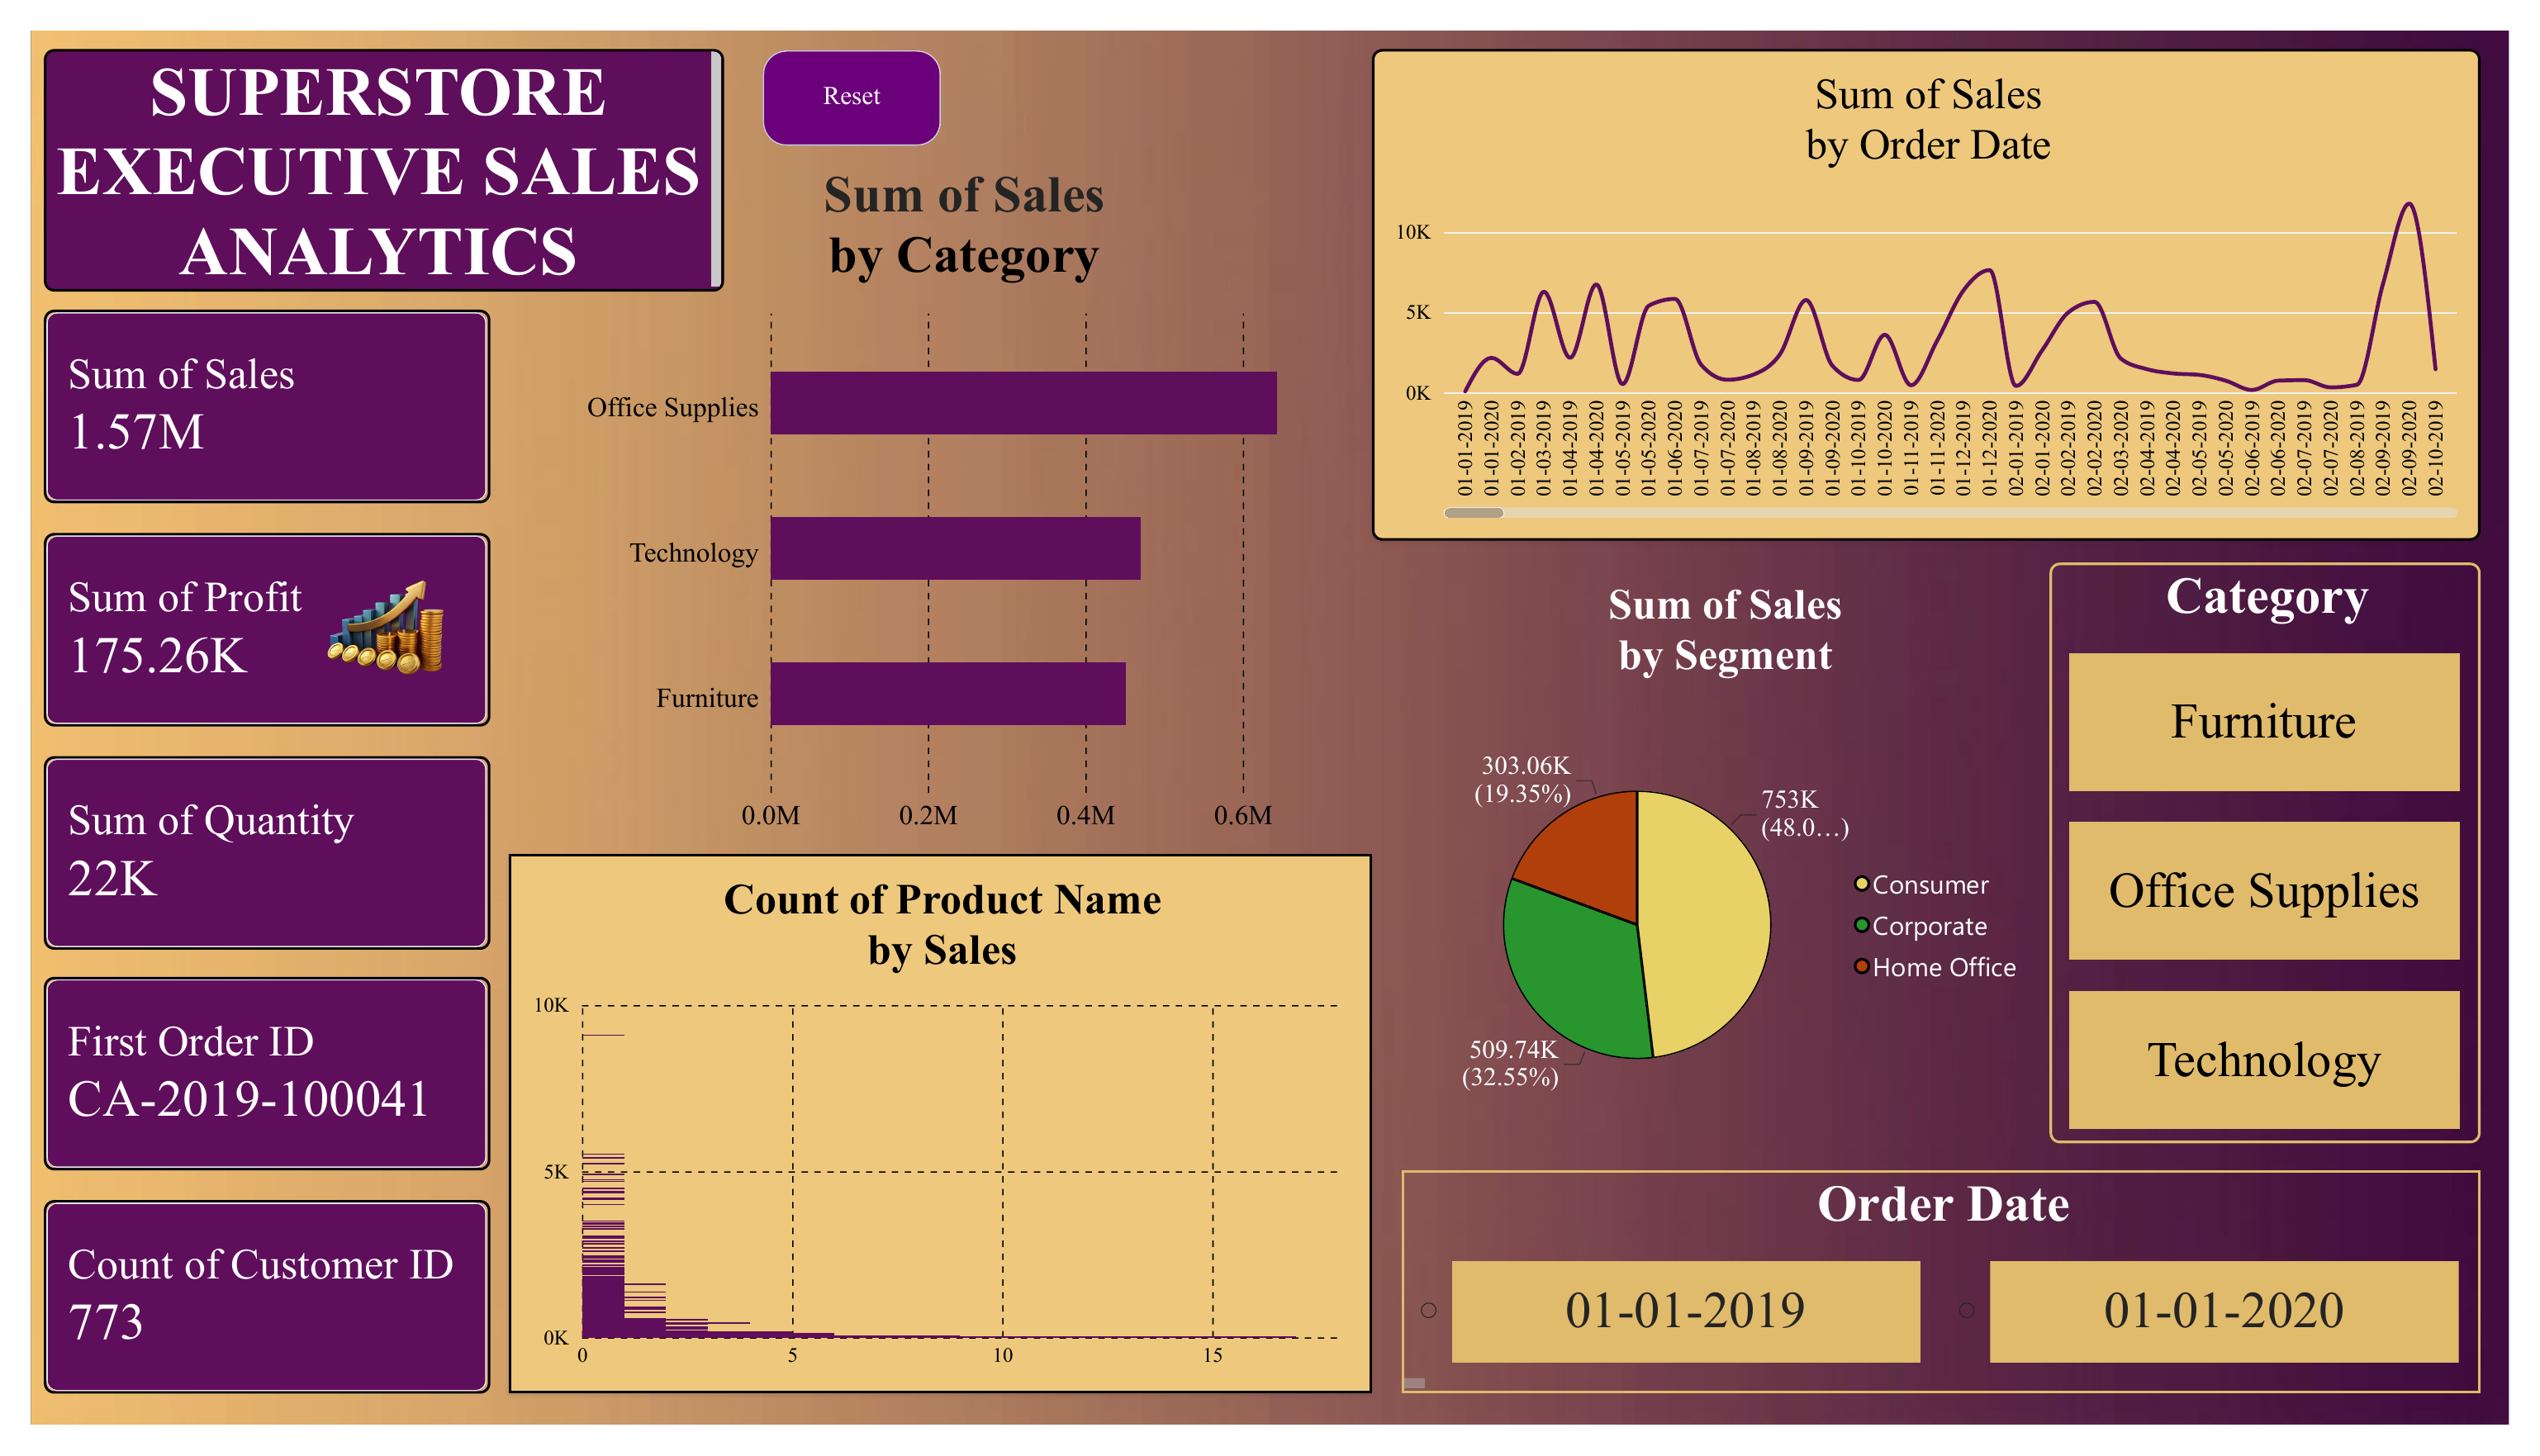

This screenshot's page, from the dashboard's own definition file:
{"tool":"powerbi","page":{"name":"Page 1","canvas":[1920,1080],"ordinal":0},"visuals":[{"type":"textbox","box":[10.3,14.4,526.9,187.3],"z":0},{"type":"cardVisual","fields":{"Data":["Min(Cleanes_Sales_Data.Order ID)"]},"box":[10.3,732.8,345.8,150.3],"z":1},{"type":"cardVisual","fields":{"Data":["Sum(Cleanes_Sales_Data.Quantity)"]},"box":[10.3,561.9,345.8,150.3],"z":2},{"type":"cardVisual","fields":{"Data":["Sum(Cleanes_Sales_Data.Sales)"]},"box":[10.3,216.1,345.8,150.3],"z":3},{"type":"cardVisual","fields":{"Data":["Sum(Cleanes_Sales_Data.Profit)"]},"box":[10.3,389,345.8,150.3],"z":4},{"type":"image","box":[212,391.1,125.6,148.2],"z":5},{"type":"cardVisual","fields":{"Data":["Count(Cleanes_Sales_Data.Customer ID)"]},"box":[10.3,905.7,345.8,150.3],"z":6},{"type":"lineChart","fields":{"Category":["Cleanes_Sales_Data.Order Date"],"Y":["Sum(Cleanes_Sales_Data.Sales)"]},"box":[1039.5,14.4,858.3,380.8],"z":7},{"type":"clusteredBarChart","fields":{"Category":["Cleanes_Sales_Data.Category"],"Y":["Sum(Cleanes_Sales_Data.Sales)"]},"box":[407.5,88.5,631.9,549.6],"z":8},{"type":"pieChart","fields":{"Category":["Cleanes_Sales_Data.Segment"],"Y":["Sum(Cleanes_Sales_Data.Sales)"]},"box":[1062.1,411.7,502.2,471.4],"z":9},{"type":"clusteredBarChart","fields":{"Category":["Cleanes_Sales_Data.Sales"],"Y":["CountNonNull(Cleanes_Sales_Data.Product Name)"]},"box":[370.5,638.1,669,417.8],"z":10},{"type":"advancedSlicerVisual","fields":{"Values":["Cleanes_Sales_Data.Category"]},"box":[1564.3,411.7,333.4,450.8],"z":11},{"type":"advancedSlicerVisual","fields":{"Values":["Cleanes_Sales_Data.Order Date.Variation.Date Hierarchy.Year"]},"box":[1062.1,883,835.7,172.9],"z":12},{"type":"actionButton","box":[566.8,15.3,137.9,74],"z":13}]}

Visuals, with their boxes in screenshot pixels (x1, y1, x2, y2):
textbox: 33 32 720 277
cardVisual - Min(Cleanes_Sales_Data.Order ID): 33 969 484 1165
cardVisual - Sum(Cleanes_Sales_Data.Quantity): 33 746 484 942
cardVisual - Sum(Cleanes_Sales_Data.Sales): 33 295 484 491
cardVisual - Sum(Cleanes_Sales_Data.Profit): 33 520 484 717
image: 297 524 460 717
cardVisual - Count(Cleanes_Sales_Data.Customer ID): 33 1195 484 1391
lineChart - Cleanes_Sales_Data.Order Date x Sum(Cleanes_Sales_Data.Sales): 1376 32 2495 529
clusteredBarChart - Cleanes_Sales_Data.Category x Sum(Cleanes_Sales_Data.Sales): 552 129 1376 846
pieChart - Cleanes_Sales_Data.Segment x Sum(Cleanes_Sales_Data.Sales): 1406 550 2061 1165
clusteredBarChart - Cleanes_Sales_Data.Sales x CountNonNull(Cleanes_Sales_Data.Product Name): 503 846 1376 1391
advancedSlicerVisual - Cleanes_Sales_Data.Category: 2061 550 2495 1138
advancedSlicerVisual - Cleanes_Sales_Data.Order Date.Variation.Date Hierarchy.Year: 1406 1165 2495 1391
actionButton: 759 33 939 130
